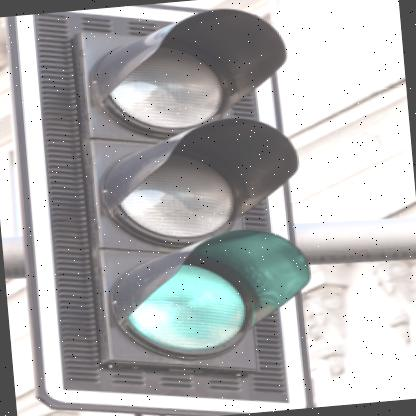trafficlight: (0, 0, 318, 415)
